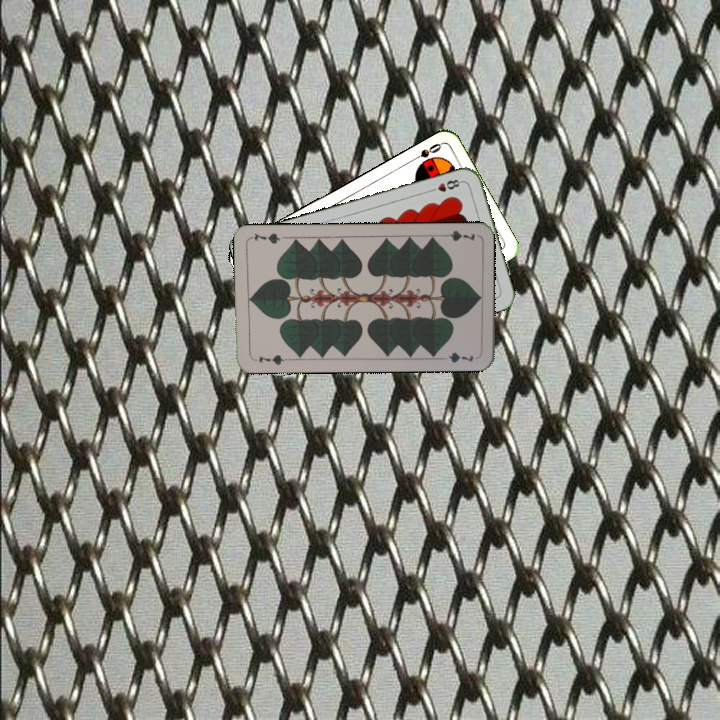G7: (437, 226, 478, 244), (255, 351, 290, 367)
H8: (425, 175, 465, 195)
SO: (407, 139, 444, 165)
